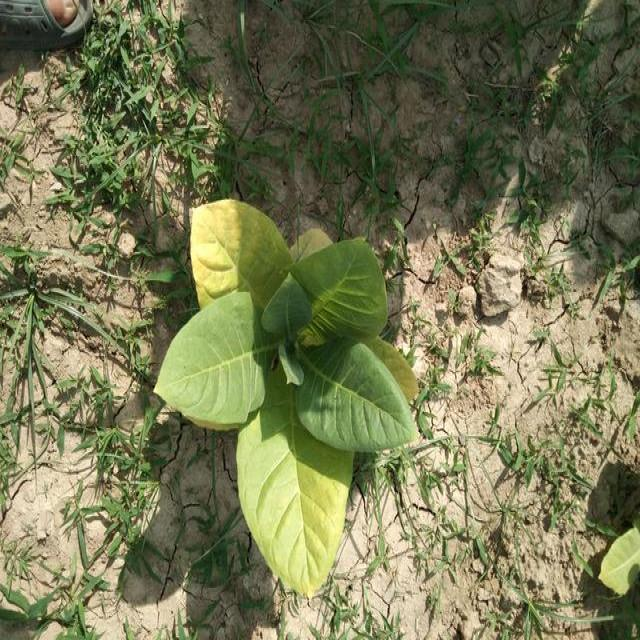crop: (158, 190, 430, 587)
